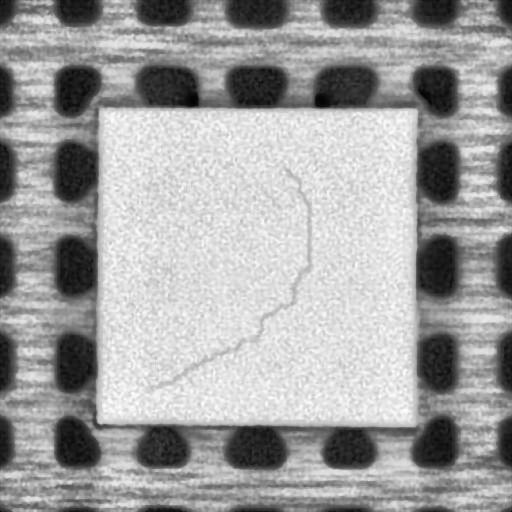DIE_CRACK: (138, 158, 309, 395)
